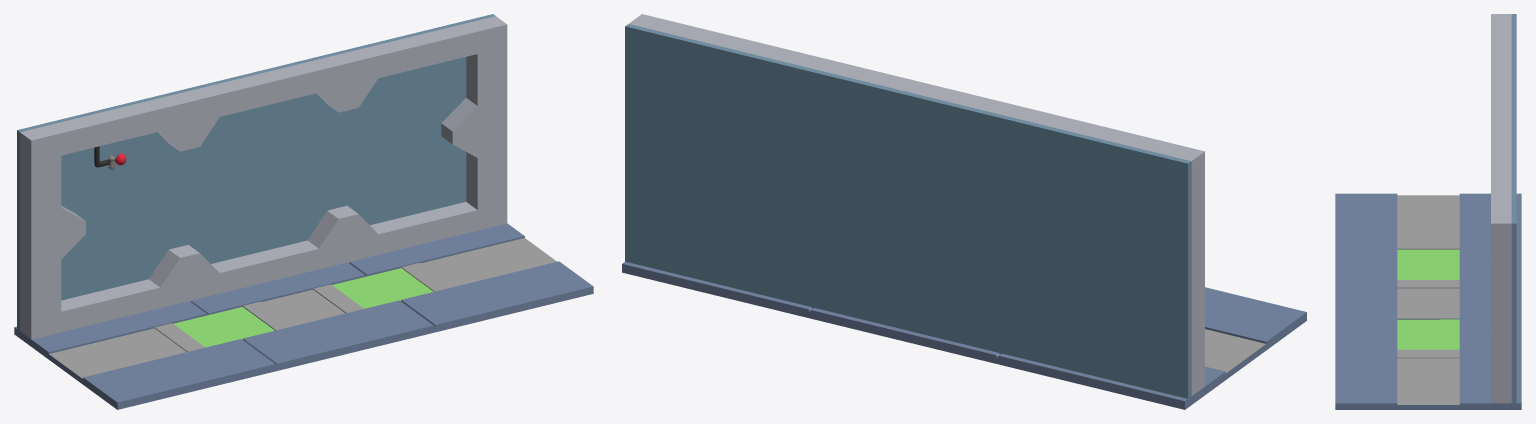
The model's file is platformjetimp.fbx.
3 renders of one model, left to right at view 1: azimuth 30°, elevation 25°; view 2: azimuth 150°, elevation 25°; view 3: azimuth 270°, elevation 25°, orthographic. The views are drawn at different scales.
Visible parts, largest first — view 1: Wall, Border.001, Platform; view 2: Wall, Platform, Border.001; view 3: Platform, Border.001, Wall.
Part boxes in pixels (left/top/right/bottom): Wall: left=17, top=14, right=495, bottom=330; Border.001: left=20, top=16, right=507, bottom=339; Platform: left=14, top=223, right=593, bottom=409; Wall: left=625, top=24, right=1191, bottom=398; Platform: left=622, top=261, right=1306, bottom=409; Border.001: left=629, top=14, right=1204, bottom=395; Platform: left=1335, top=193, right=1521, bottom=409; Border.001: left=1491, top=14, right=1511, bottom=403; Wall: left=1511, top=14, right=1516, bottom=403.
Bounding box in the file's own units: 4964 × 2056 × 1861.
